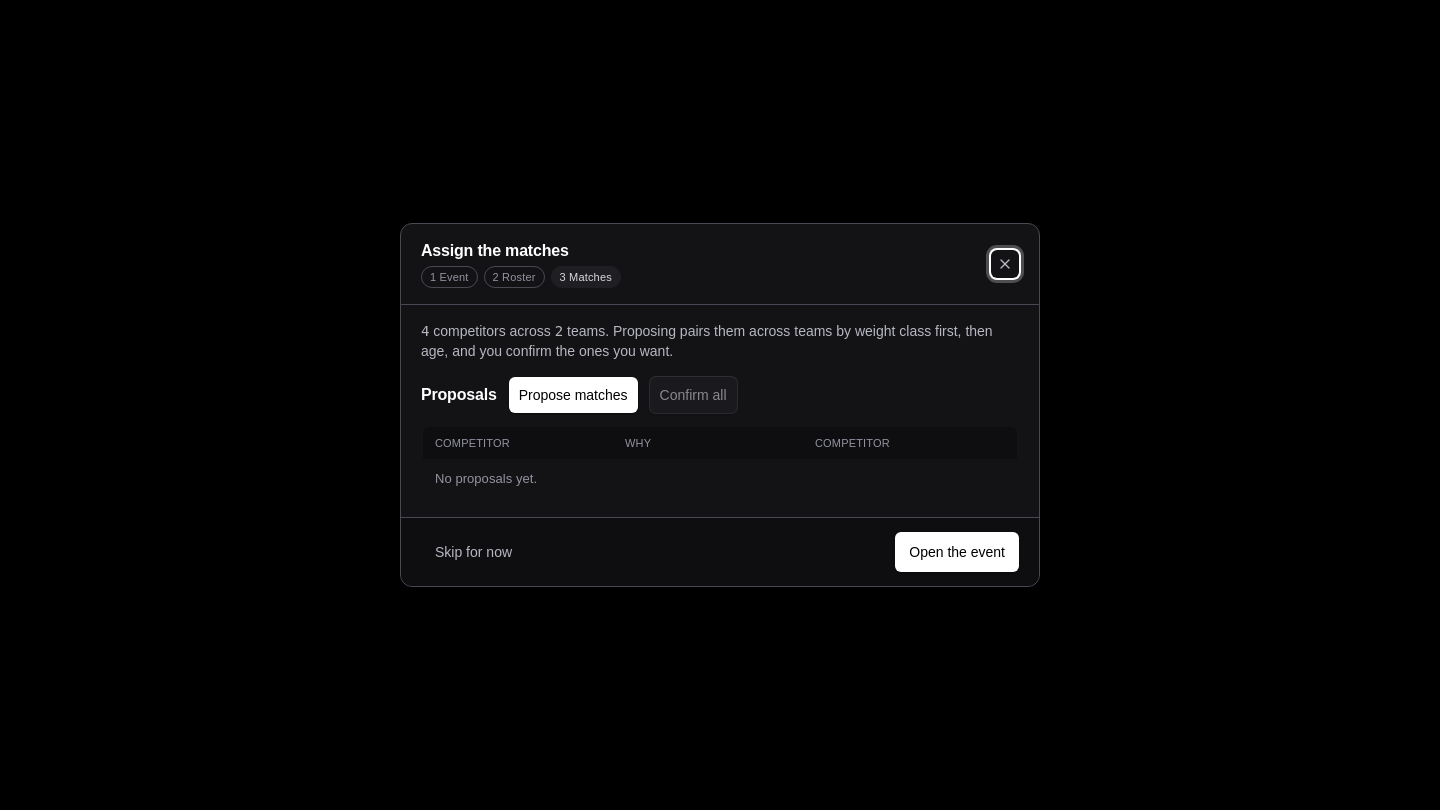
Test: SetupMatchesStep › proposes from the panel the Matches tab carries
Expected: the heading "Assign the matches" is shown, left=421, top=242, right=569, bottom=259
Expected: the text "No proposals yet." is shown, left=435, top=470, right=537, bottom=488
Click the button "Propose matches" at (573, 395), box left=509, top=377, right=638, bottom=413
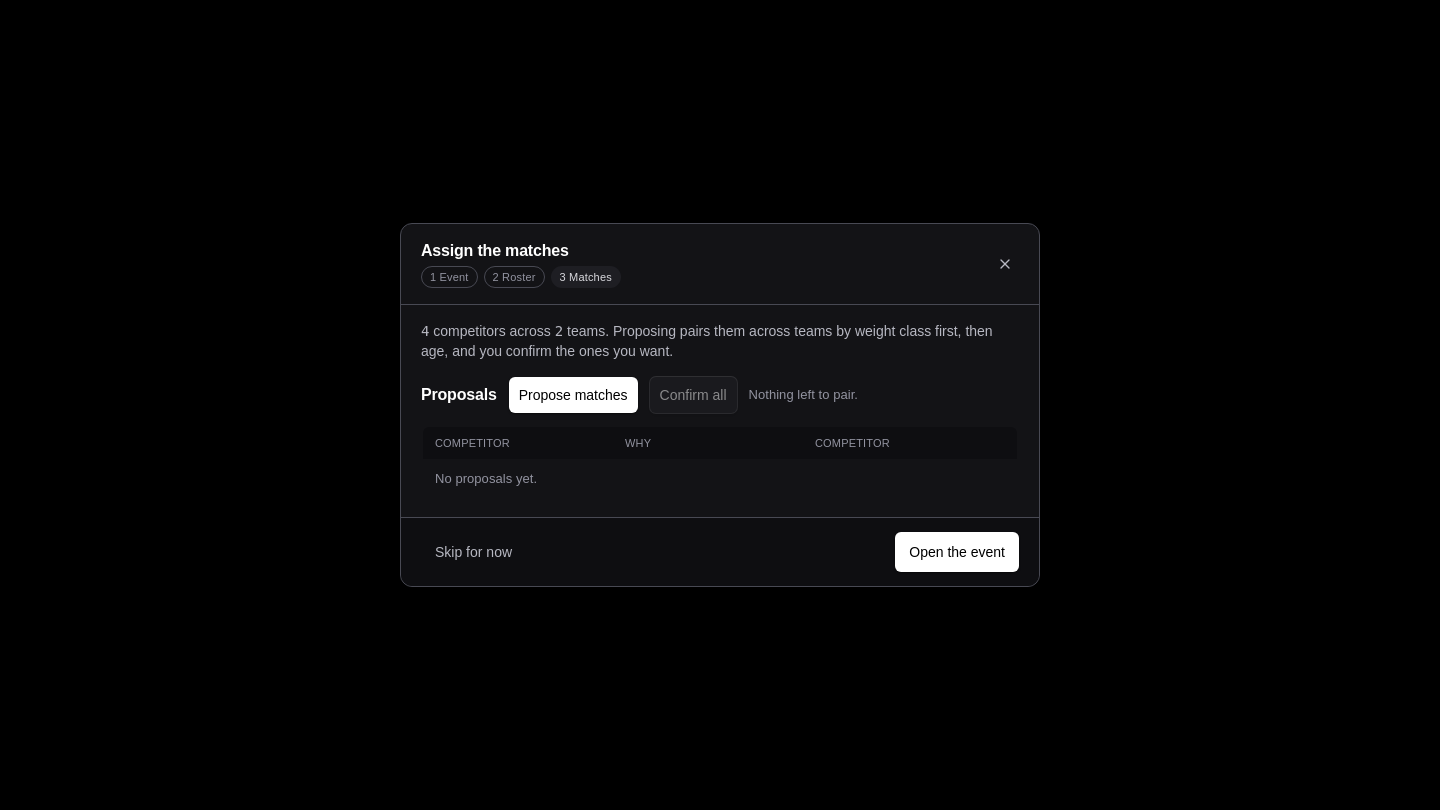
Now the text "Nothing left to pair." is shown, box left=748, top=386, right=858, bottom=404
